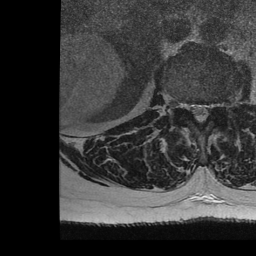CCS_normal: (196, 96, 204, 130)
LFS_severe_stenosis: (211, 96, 220, 115)
LLS_normal: (204, 95, 211, 125)
RFS_stenosis: (180, 93, 188, 116)
RLS_normal: (189, 96, 196, 122)
